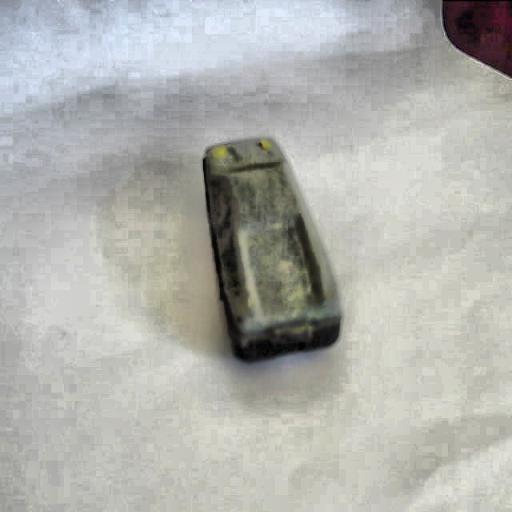normal_car: (200, 133, 346, 365)
